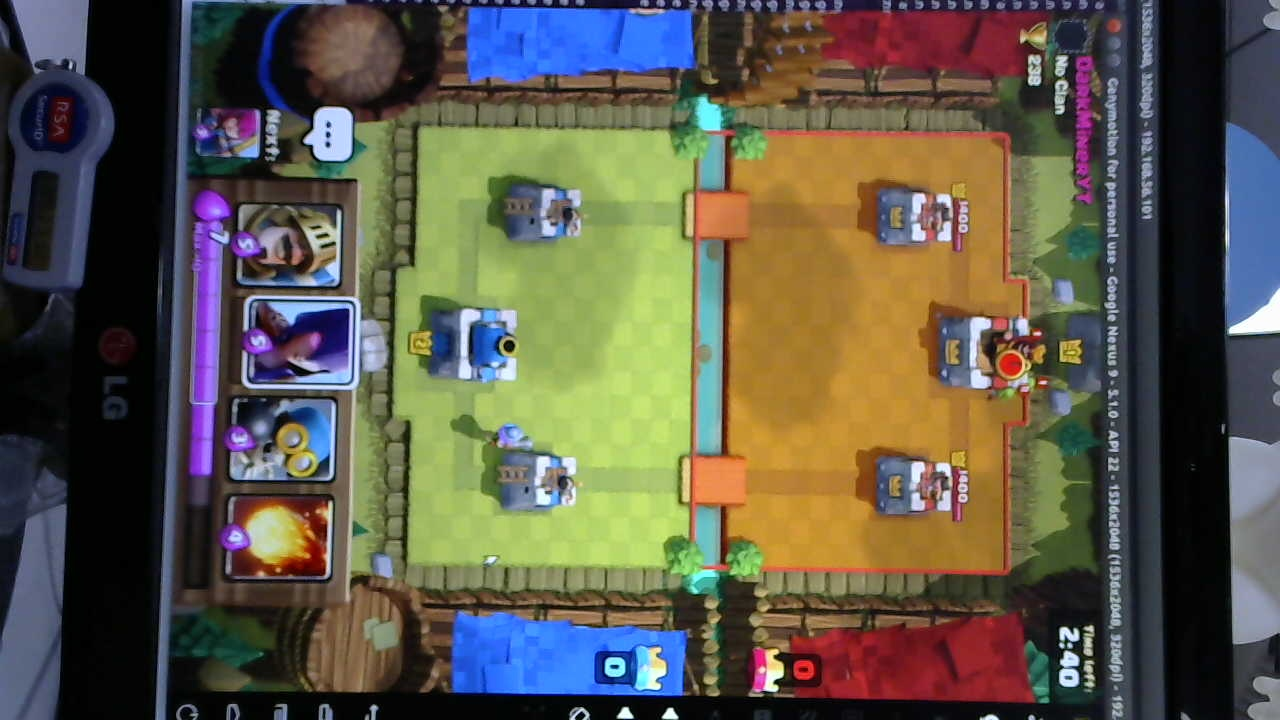arena: (504, 449, 580, 514), (509, 183, 584, 243)
earena: (877, 456, 959, 515), (878, 186, 958, 244)
eking: (937, 311, 1041, 391)
goblins: (980, 373, 1050, 407)
king: (435, 306, 520, 383)
musketeer: (487, 420, 537, 455)
